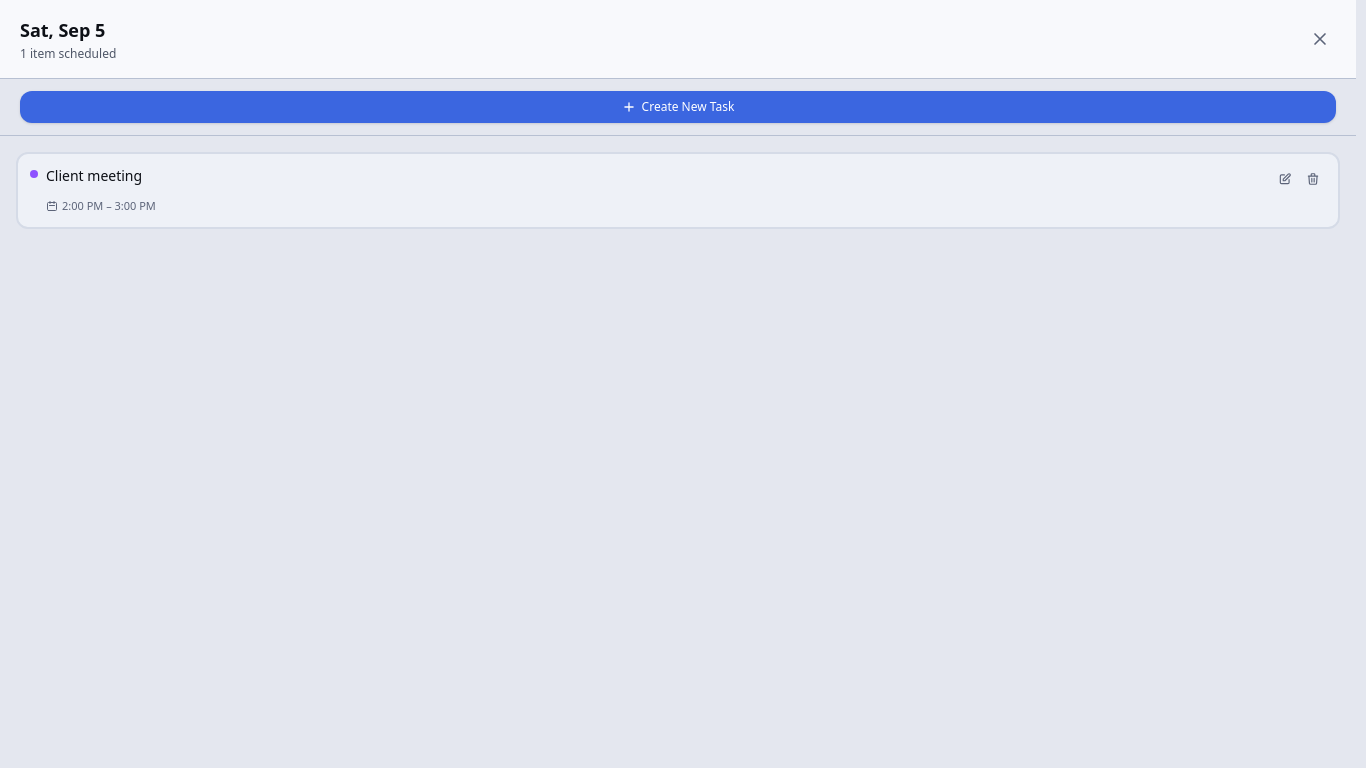
Test: event popup: imported meeting details › shows an imported event with no meeting details, and still offers to edit it
Click the heading "Client meeting".
click(94, 176)  # box [46,166,142,186]
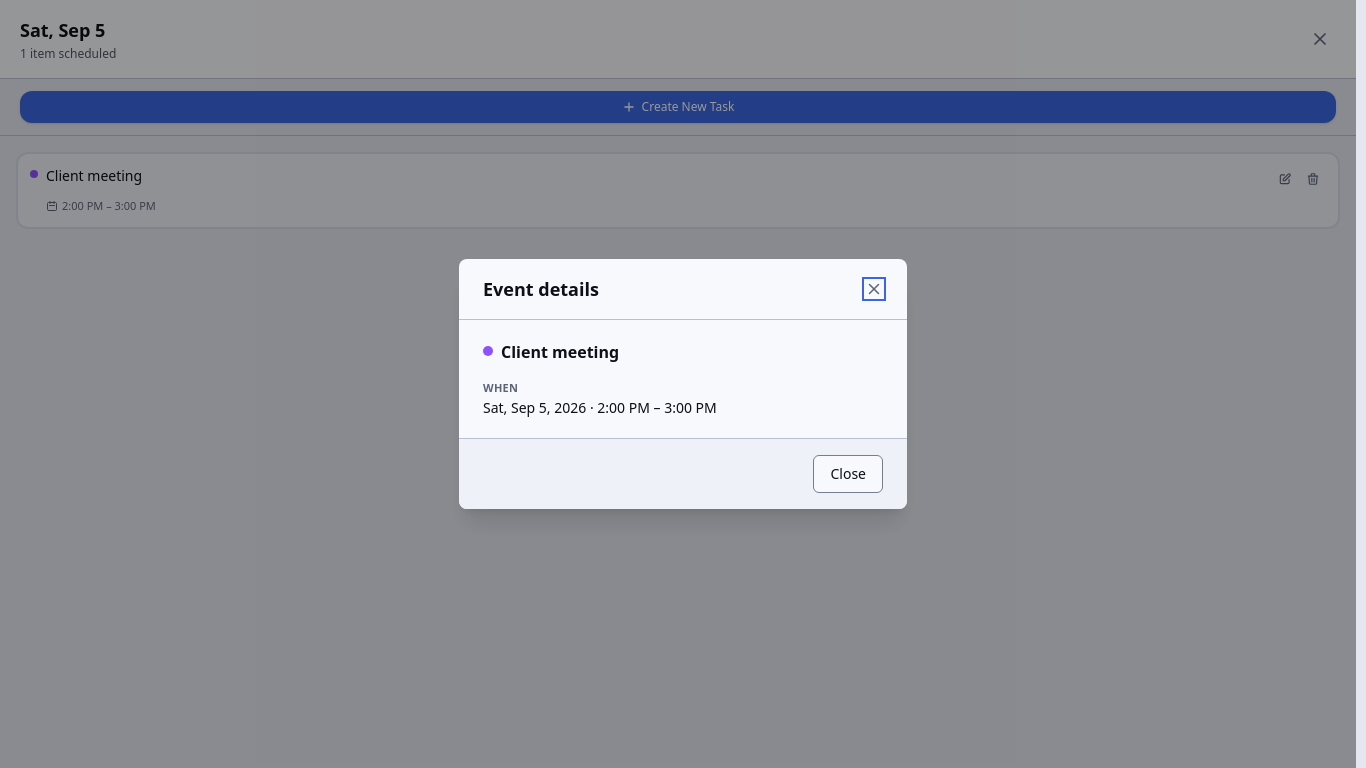
Expected: the button named "Edit event" is shown, [1272,166,1298,192]
Expected: the text "Sat, Sep 5, 2026 · 2:00 PM – 3:00 PM" is shown, [483,398,717,417]
